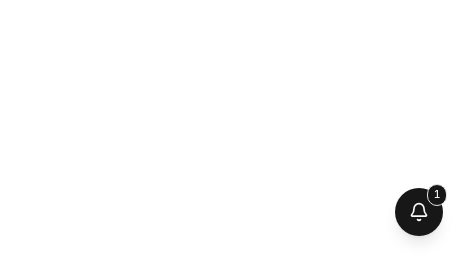
Test: DownloadQueuePanel › auto-opens the optional tab when only reminders remain
Click the button named "Download Queue": (419, 212) [395,188,443,236]
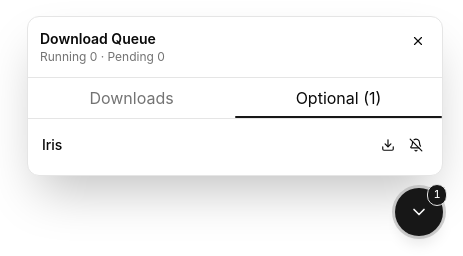
expect the text "Iris" is shown: met, box [42,135,62,155]
